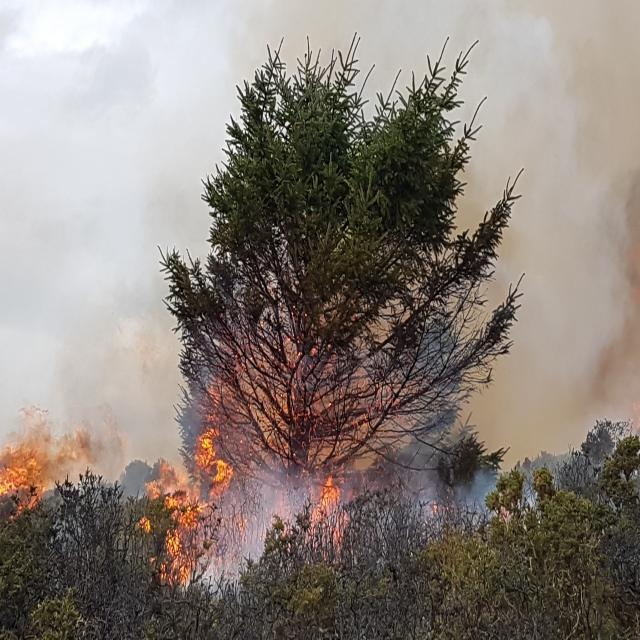Fire: (135, 414, 225, 588), (0, 408, 81, 522)
Smoke: (438, 0, 640, 460)
